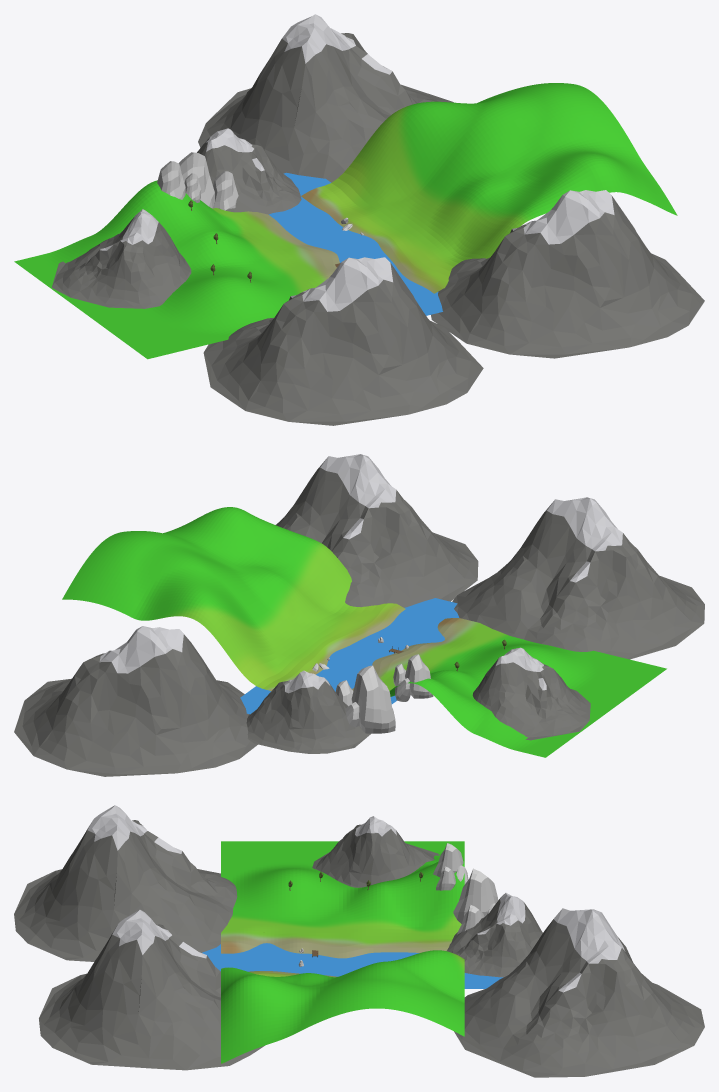
Rendered from Envroment 2.fbx.
3 renders of one model, top to bottom at view 1: azimuth 30°, elevation 25°; view 2: azimuth 150°, elevation 25°; view 3: azimuth 270°, elevation 25°, orthographic. The views are drawn at different scales.
Visible parts, largest first — view 1: Model_Env.002, Plane, Plane.001, Model_Stone.003; view 2: Model_Env.002, Plane, Plane.001, Model_Stone.003; view 3: Model_Env.002, Plane, Plane.001, Model_Stone.003.
Boxes of the visible parts, bbox=[...] form: Model_Env.002: bbox=[52, 14, 704, 425]; Plane: bbox=[14, 83, 677, 359]; Plane.001: bbox=[269, 172, 442, 315]; Model_Stone.003: bbox=[157, 152, 238, 210]; Model_Env.002: bbox=[14, 454, 704, 776]; Plane: bbox=[62, 507, 666, 757]; Plane.001: bbox=[240, 598, 459, 714]; Model_Stone.003: bbox=[335, 654, 433, 733]; Model_Env.002: bbox=[14, 805, 704, 1077]; Plane: bbox=[221, 841, 464, 1063]; Plane.001: bbox=[202, 943, 503, 988]; Model_Stone.003: bbox=[433, 843, 498, 934].
Size of the model in its own units: 15338 by 3537 by 18999.
